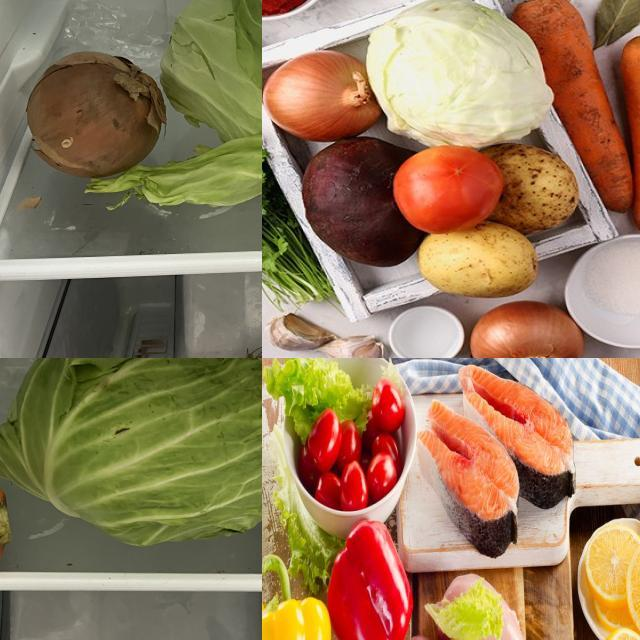beet: (299, 141, 417, 268)
bell_pepper: (331, 521, 415, 640), (263, 555, 336, 640)
cabbage: (1, 359, 263, 556), (153, 1, 263, 222), (378, 4, 556, 138)
carrot: (523, 1, 640, 209), (625, 36, 640, 227)
onion: (25, 51, 169, 182), (263, 54, 387, 141), (482, 308, 576, 359)
potato: (417, 228, 535, 296), (510, 154, 571, 225)
tomato: (392, 146, 502, 230), (310, 406, 343, 470), (370, 374, 405, 428), (341, 464, 371, 512), (339, 418, 367, 466), (314, 474, 344, 510), (369, 458, 397, 496)
